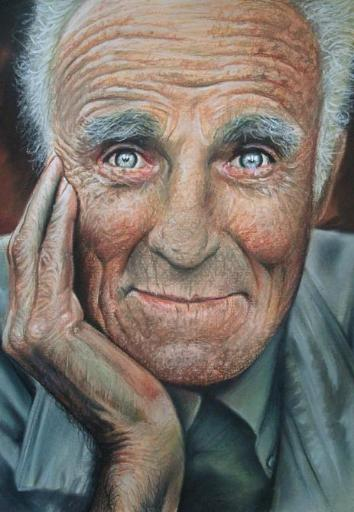left_eye: (223, 143, 280, 177)
left_lip_corner: (230, 285, 255, 311)
right_eye: (100, 140, 156, 178)
right_lip_corner: (126, 280, 146, 306)
